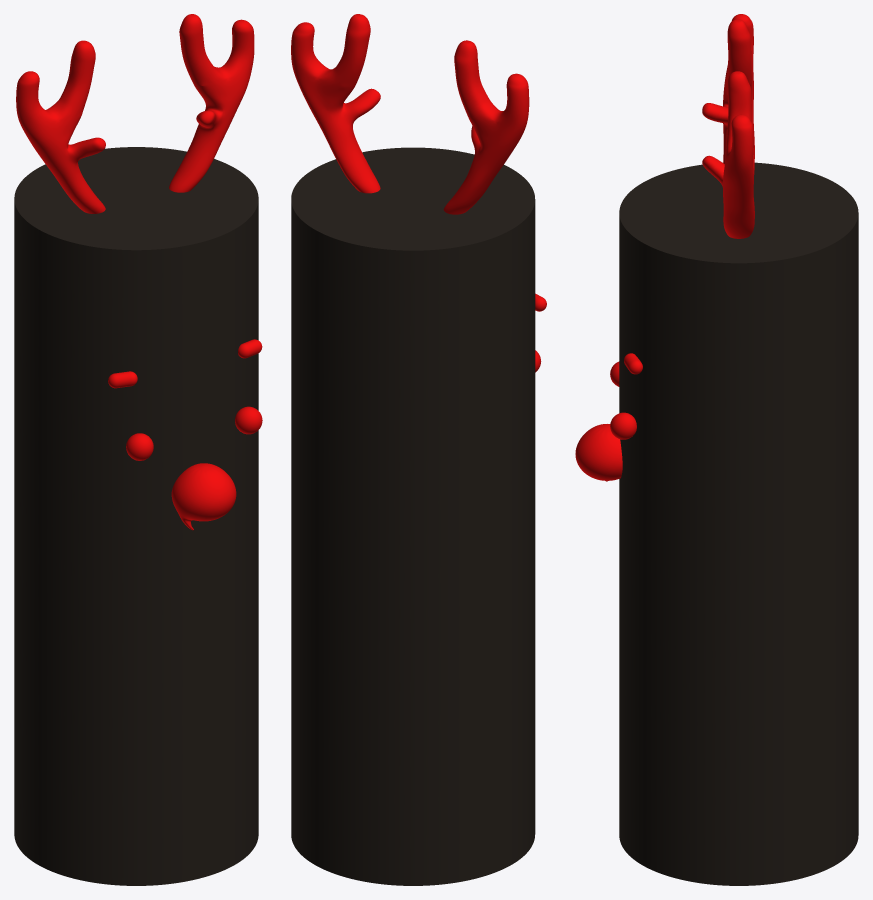
File: BIG NOO.fbx
3 views of the same model, side by side, from view 1: azimuth 30°, elevation 25°; view 2: azimuth 150°, elevation 25°; view 3: azimuth 270°, elevation 25° (orthographic). The views are drawn at different scales.
Parts seen in each view (by area): view 1: Cylinder, Capsule, Sphere_2, EYE, Capsule_2; view 2: Cylinder, Capsule; view 3: Cylinder, Capsule, Sphere_2, EYE.
Boxes of the visible parts, x1=… form: Cylinder: x1=14, y1=147, x2=258, y2=885; Capsule: x1=16, y1=14, x2=254, y2=213; Sphere_2: x1=171, y1=463, x2=236, y2=530; EYE: x1=126, y1=406, x2=262, y2=460; Capsule_2: x1=108, y1=339, x2=262, y2=388; Cylinder: x1=291, y1=147, x2=535, y2=885; Capsule: x1=291, y1=14, x2=529, y2=214; Cylinder: x1=619, y1=162, x2=858, y2=885; Capsule: x1=702, y1=14, x2=754, y2=238; Sphere_2: x1=575, y1=424, x2=622, y2=481; EYE: x1=610, y1=361, x2=636, y2=439.
Size of the model in its own units: 513 by 1678 by 545.
